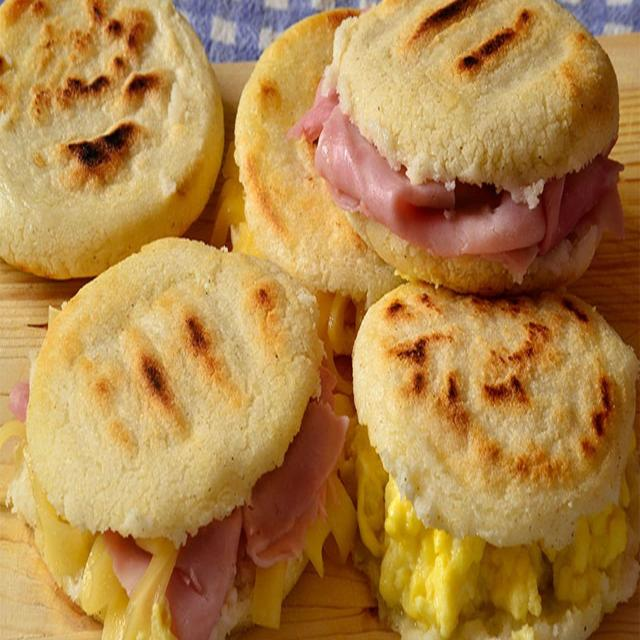arepa: (24, 233, 345, 624), (332, 0, 630, 197)
